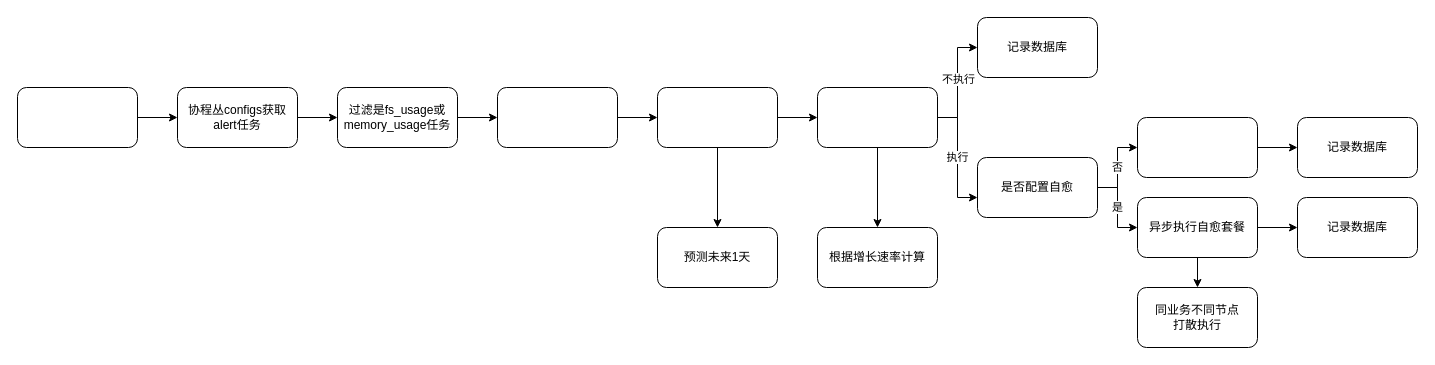
Some shapes in this 1435 by 365 pixel diagram are drawn without their labels. The shapes that lost their labels are listed below. From the top down, each one's centre as x and y in pixels, then its label:
point 77,117: 主程序
point 557,117: 判断当前值是否达到指定值+增长速率才预测
point 717,117: 调接口预测
point 877,117: 兜底判断
point 1197,147: 提醒用户配置自愈
